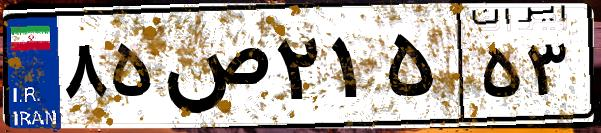1: (330, 28, 385, 110)
2: (270, 28, 330, 110)
3: (525, 38, 570, 115)
5: (385, 28, 445, 110), (475, 38, 525, 113), (110, 28, 158, 98)
8: (57, 26, 110, 100)
ص: (158, 20, 270, 120)
